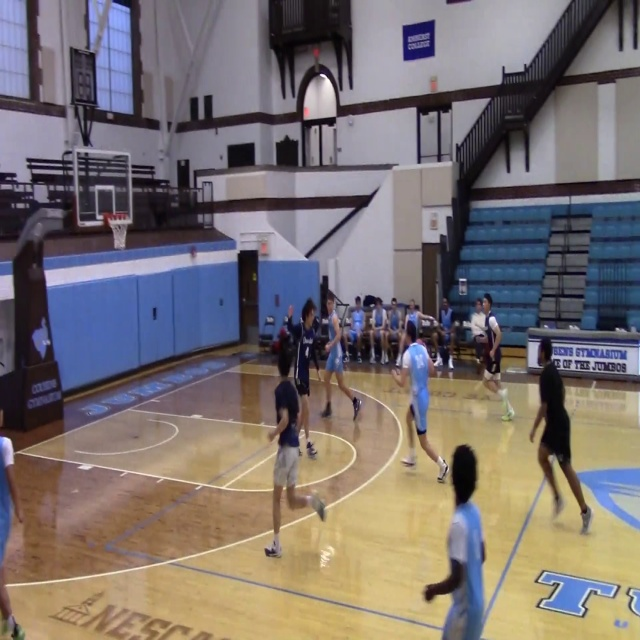Basketball: (391, 368, 404, 386)
